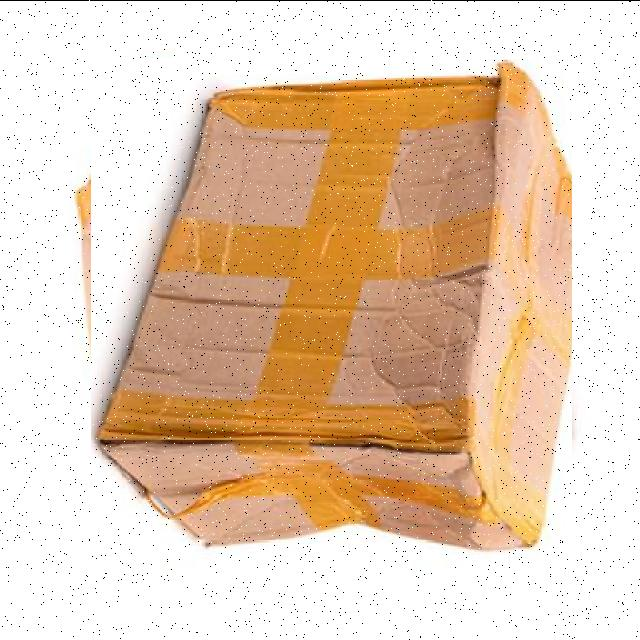normal: (91, 57, 572, 558)
